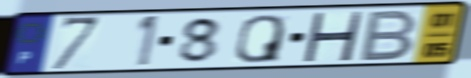1: (135, 13, 163, 70)
7: (50, 16, 104, 72)
8: (176, 16, 223, 65)
B: (356, 8, 421, 63)
H: (300, 11, 366, 63)
Q: (232, 13, 286, 64)
